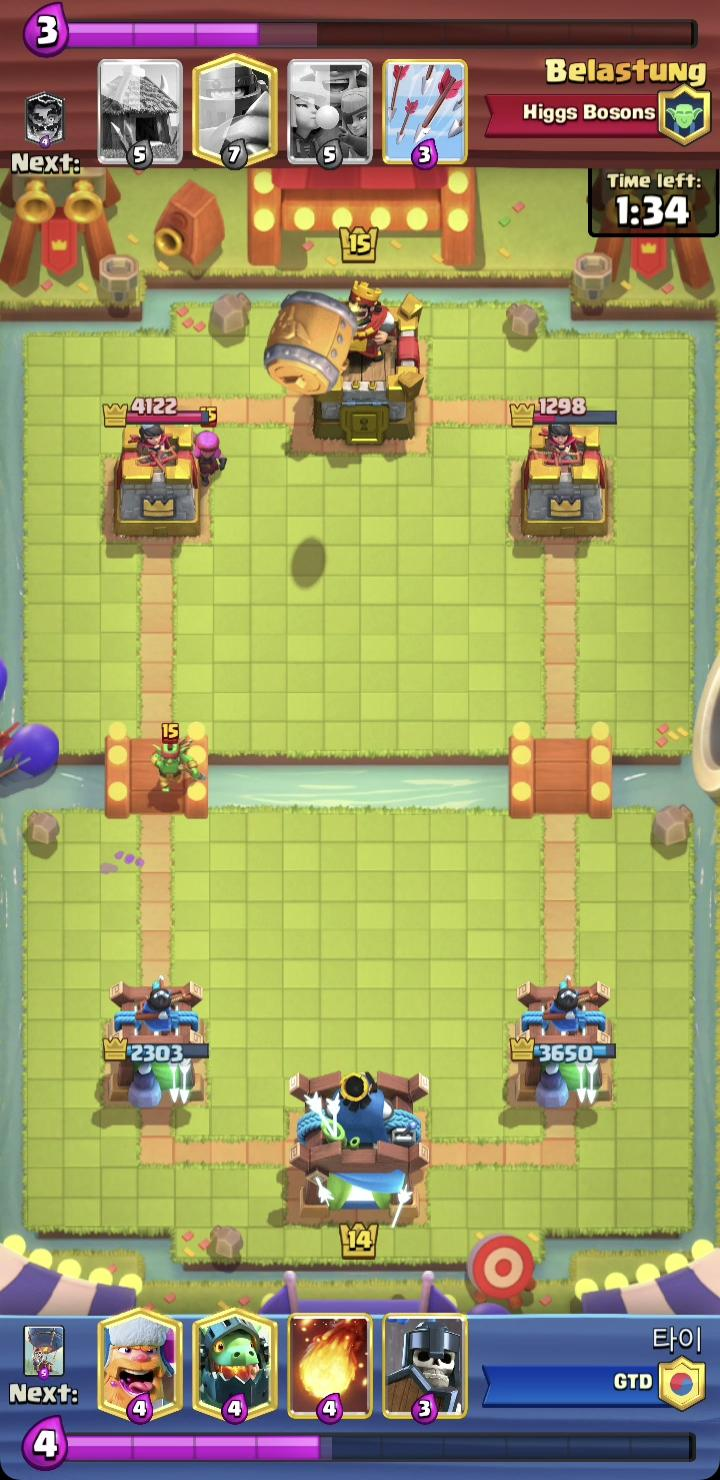enemy_firecracker: (182, 406, 231, 488)
enemy_goblinbarrel: (263, 289, 357, 396)
enemy_spear_goblin: (153, 723, 207, 799)
